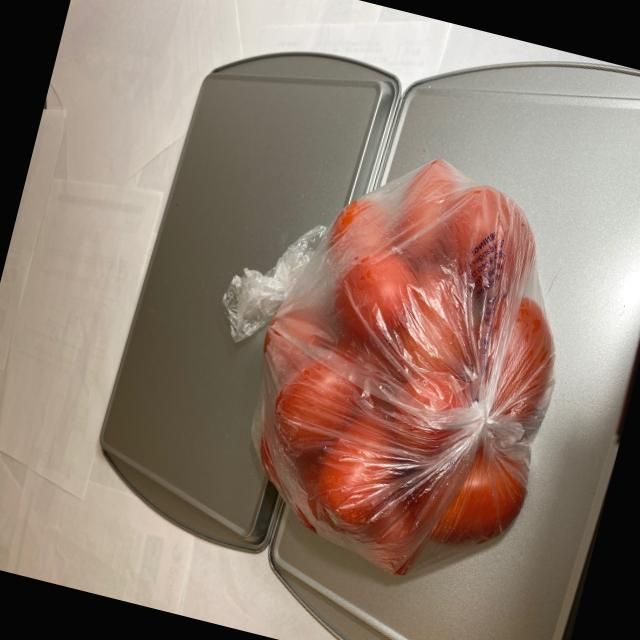tomato: (225, 136, 590, 594)
